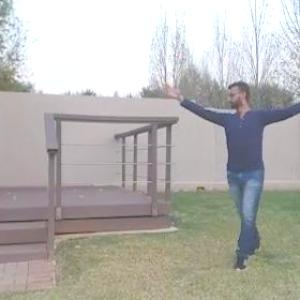takeoff: (160, 78, 299, 269)
